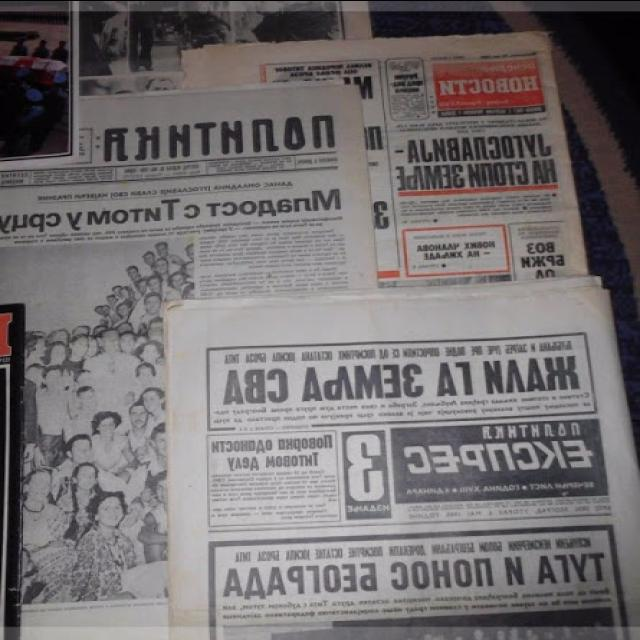newspaper: (0, 71, 370, 640), (166, 281, 640, 640), (186, 30, 590, 294)
